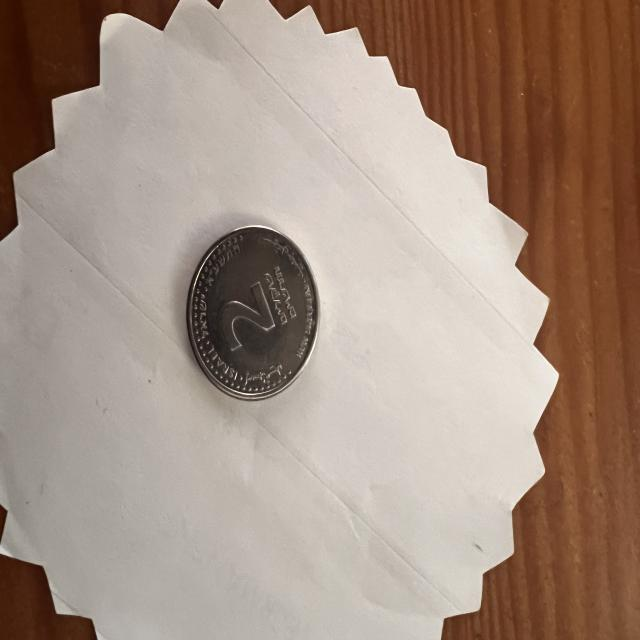2-shekel: (179, 221, 322, 403)
